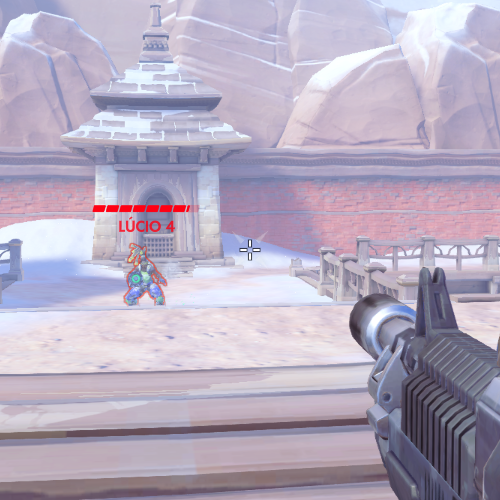hpbar: (92, 205, 200, 213)
